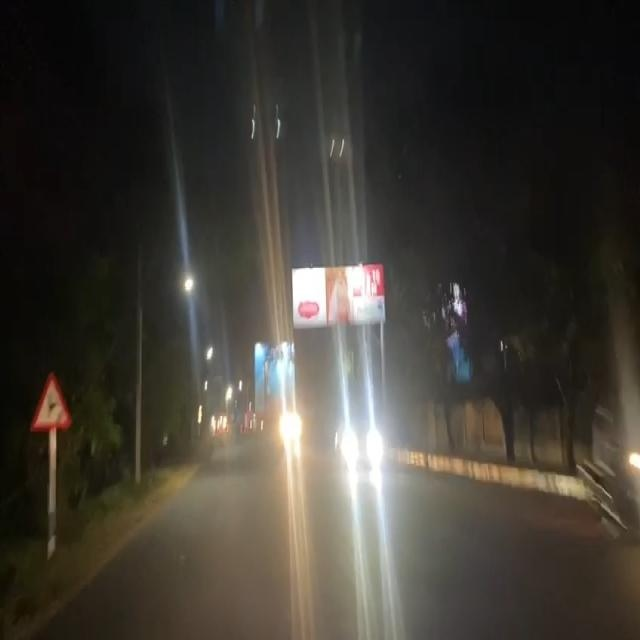bien_nguy_hiem: (28, 369, 74, 433)
